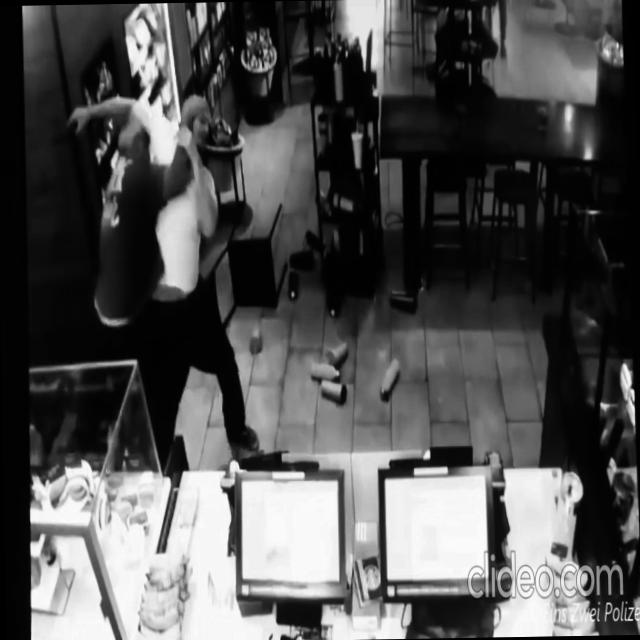gun: (54, 114, 81, 150)
person: (82, 93, 215, 476)
person with a gun: (52, 92, 262, 463)
